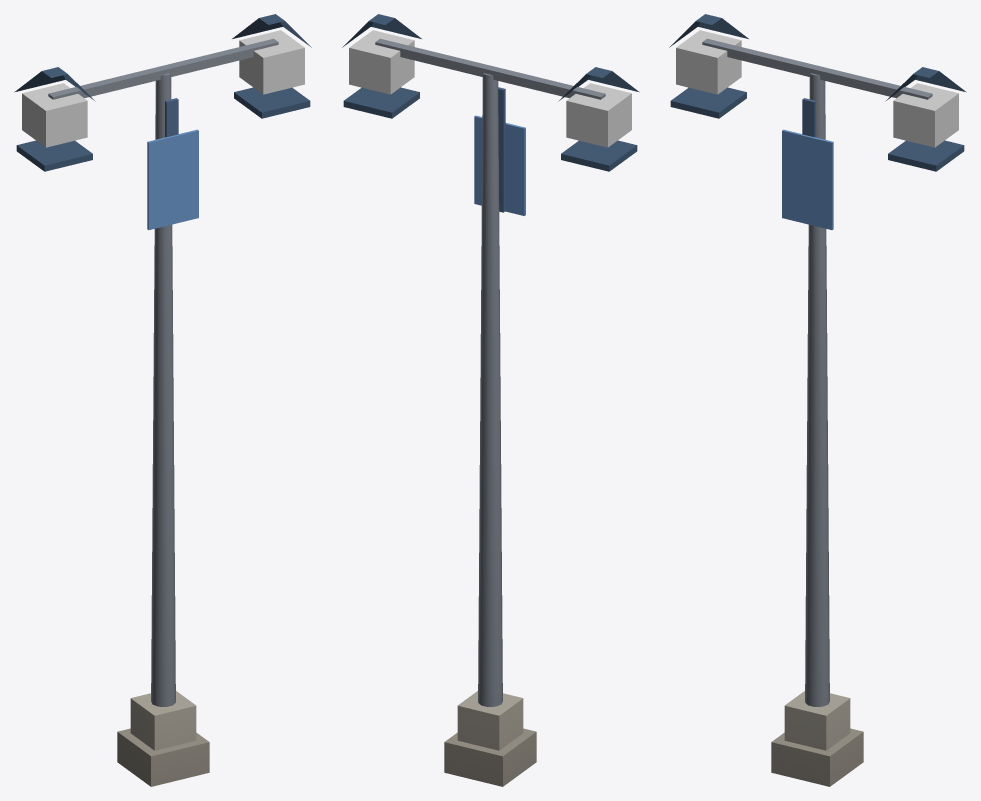
The model's file is gate_lamp_tall.glb.
3 views of the same model, side by side, from view 1: azimuth 30°, elevation 25°; view 2: azimuth 150°, elevation 25°; view 3: azimuth 330°, elevation 25° (orthographic).
Visible parts, largest first — view 1: gate_lamp_tall; view 2: gate_lamp_tall; view 3: gate_lamp_tall.
Boxes of the visible parts, <box> form: gate_lamp_tall: <box>14,14,311,786</box>; gate_lamp_tall: <box>342,14,639,786</box>; gate_lamp_tall: <box>669,14,966,786</box>.
Bounding box in the file's own units: 3.7 × 9.49 × 0.805.
